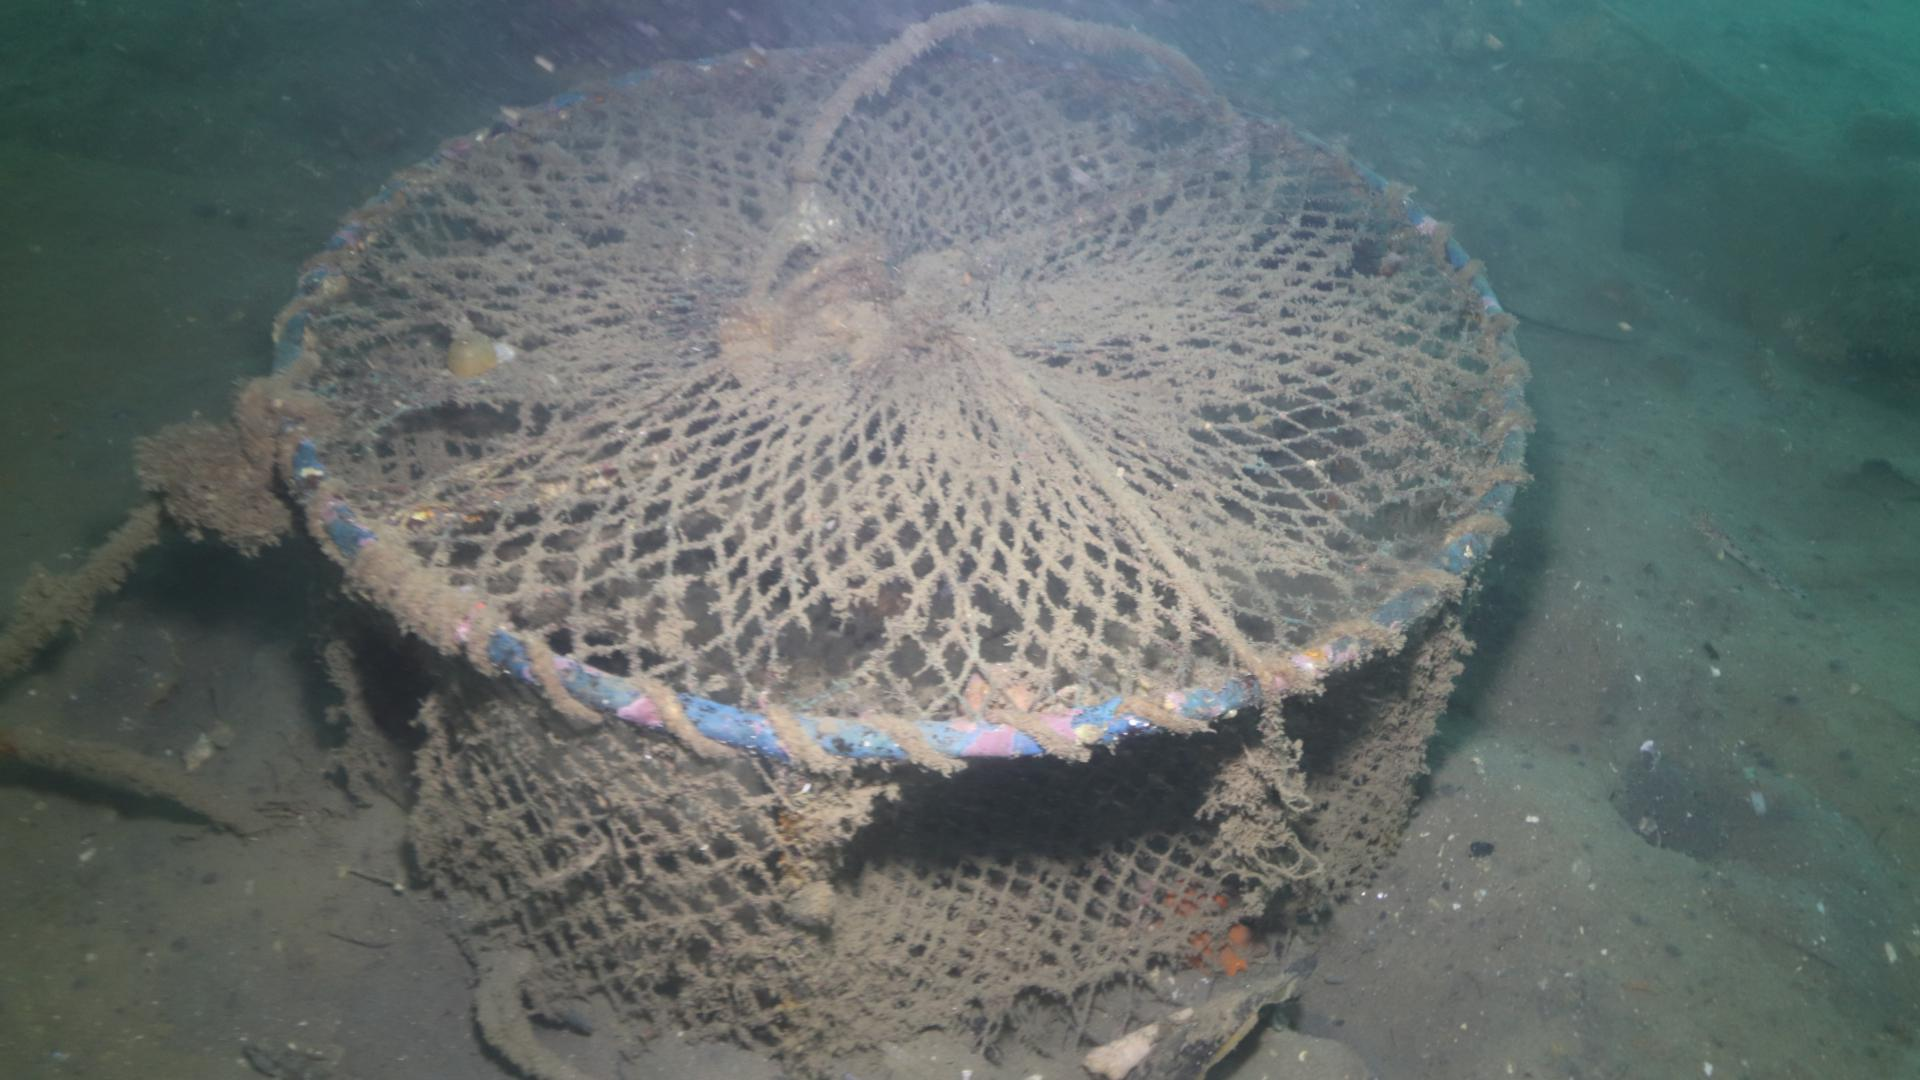circular fish trap: (265, 38, 1527, 1044)
